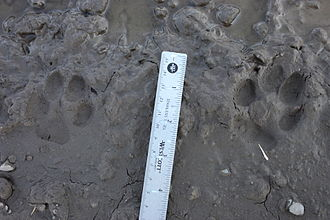coyote: (230, 62, 308, 160), (25, 70, 95, 148)
